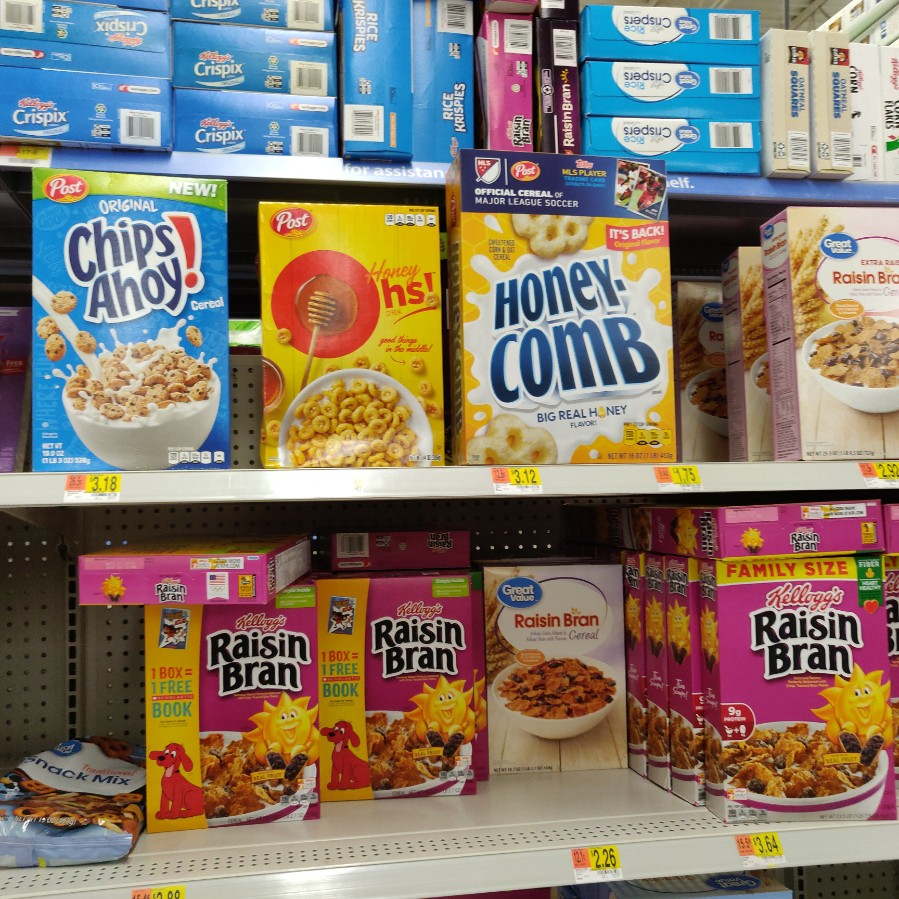Chips Ahoys-565717529: (29, 166, 235, 466)
Honey Comb- 009288857: (457, 150, 675, 466)
